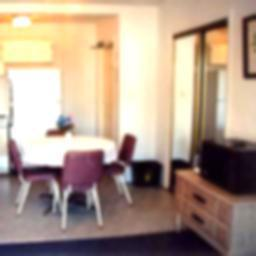Bote de Basura: (136, 160, 163, 189)
